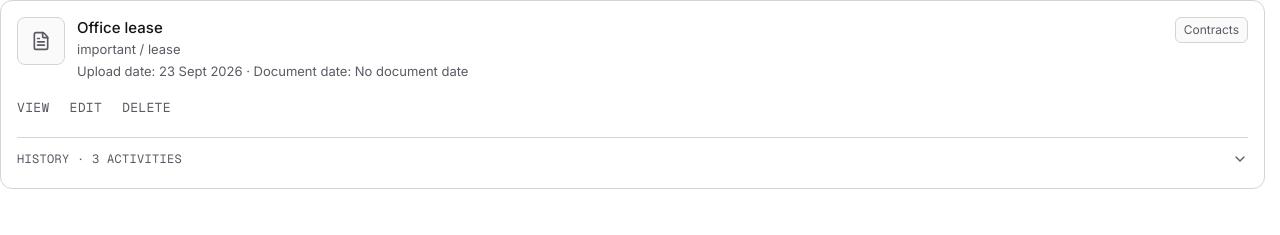
History replaces the AI trace in the card's expandable panel › shows a loading line while the history is on its way
Click the button "History · 3 activities" at (100, 159), box [17, 146, 1248, 172]
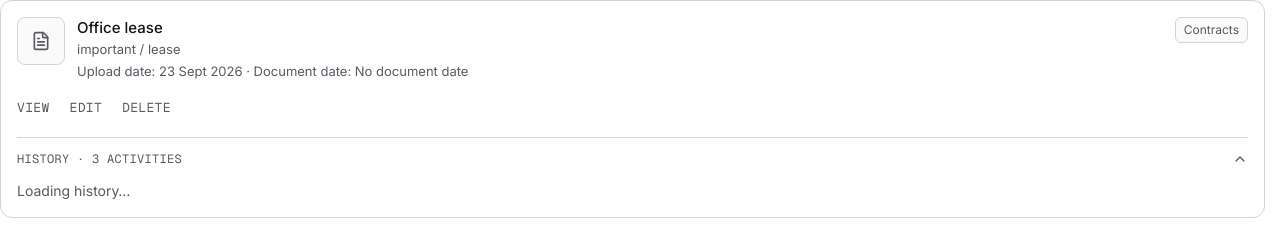
Check: the text "Loading history…" is shown, box [17, 182, 130, 199]
